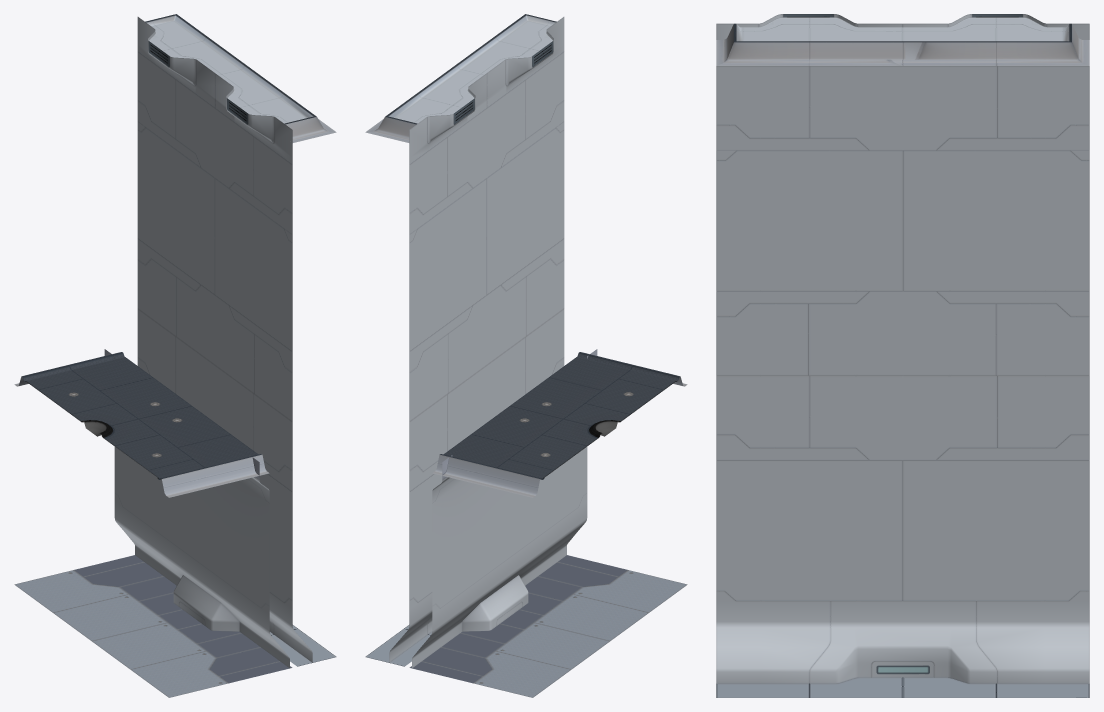
Rendered from Room_A_4m_blank_wall_tall.fbx.
3 renders of one model, left to right at view 1: azimuth 30°, elevation 25°; view 2: azimuth 150°, elevation 25°; view 3: azimuth 270°, elevation 25°, orthographic. The views are drawn at different scales.
Visible parts, largest first — view 1: Room_A_4m_blank_wall_tall; view 2: Room_A_4m_blank_wall_tall; view 3: Room_A_4m_blank_wall_tall.
Boxes of the visible parts, bbox=[...] form: Room_A_4m_blank_wall_tall: bbox=[14, 14, 336, 697]; Room_A_4m_blank_wall_tall: bbox=[365, 14, 687, 697]; Room_A_4m_blank_wall_tall: bbox=[716, 14, 1089, 697].
Size of the model in its own units: 250 by 766 by 400.
Materials: 7 (7 with a texture image).
